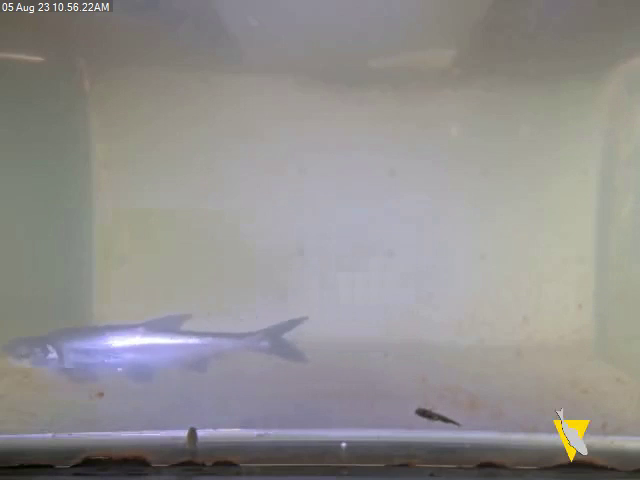\uAC15\uC900\uCE58: (2, 313, 311, 385)
